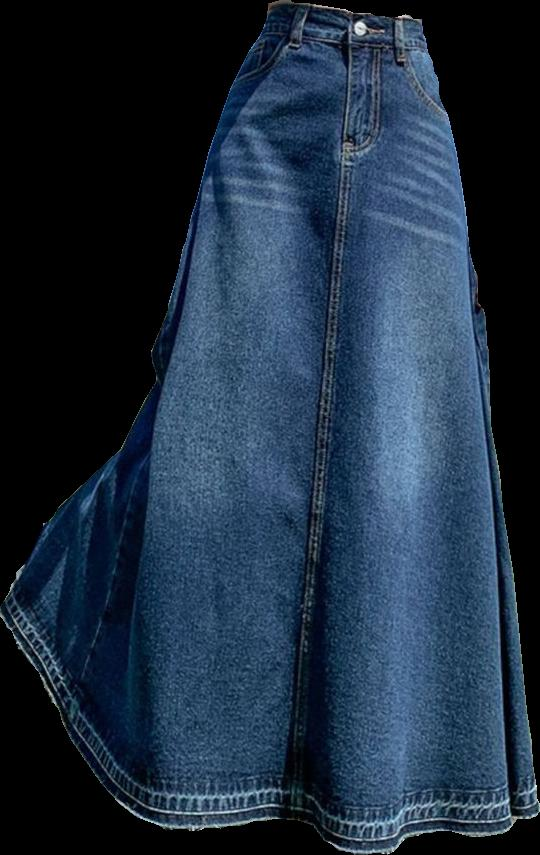Hemline: (1, 602, 539, 854)
Waistline: (259, 26, 428, 56), (268, 0, 419, 26)
